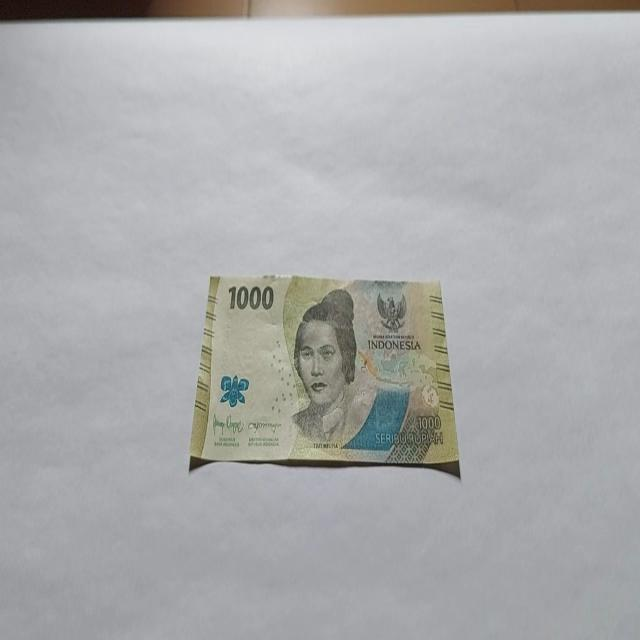seribu rupiah kertas: (188, 272, 460, 478)
